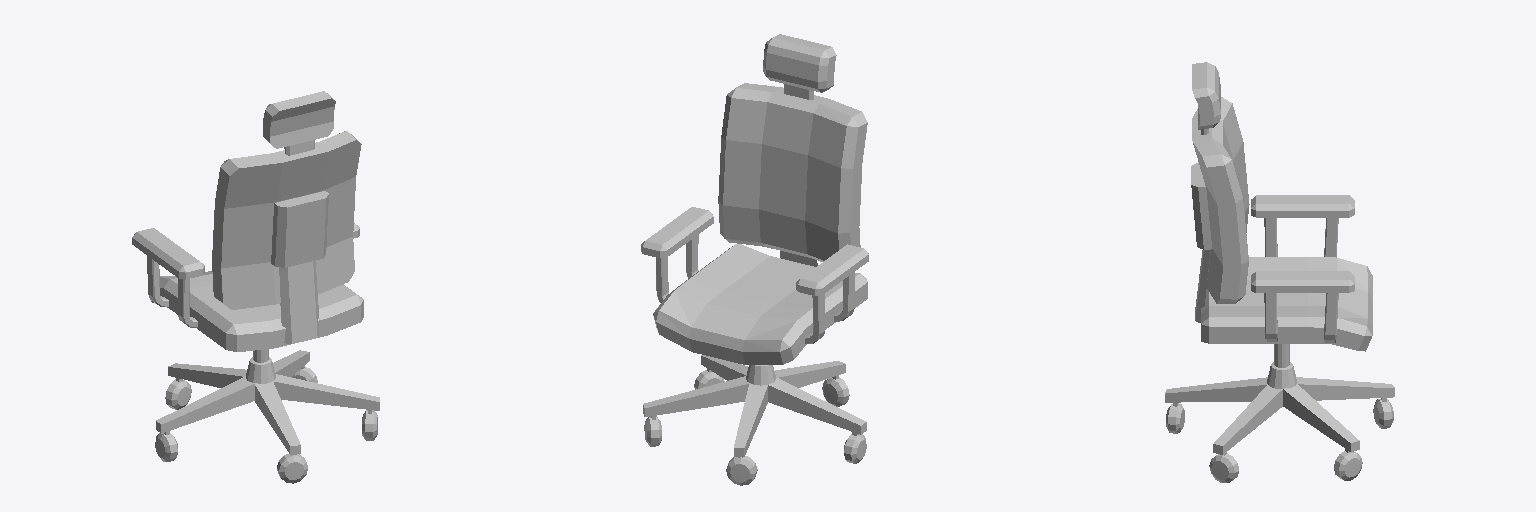
File: SM_SillaA.obj
The picture shows the model from 3 angles: view 1: azimuth 30°, elevation 25°; view 2: azimuth 150°, elevation 25°; view 3: azimuth 270°, elevation 25°; orthographic projection.
Parts seen in each view (by area): view 1: SillaA; view 2: SillaA; view 3: SillaA.
Part boxes in pixels (x1,y1,x2,y2): SillaA: (132, 91, 379, 483); SillaA: (641, 34, 868, 485); SillaA: (1165, 62, 1394, 482).
Bounding box in the file's own units: 5.71 × 10.39 × 5.9.